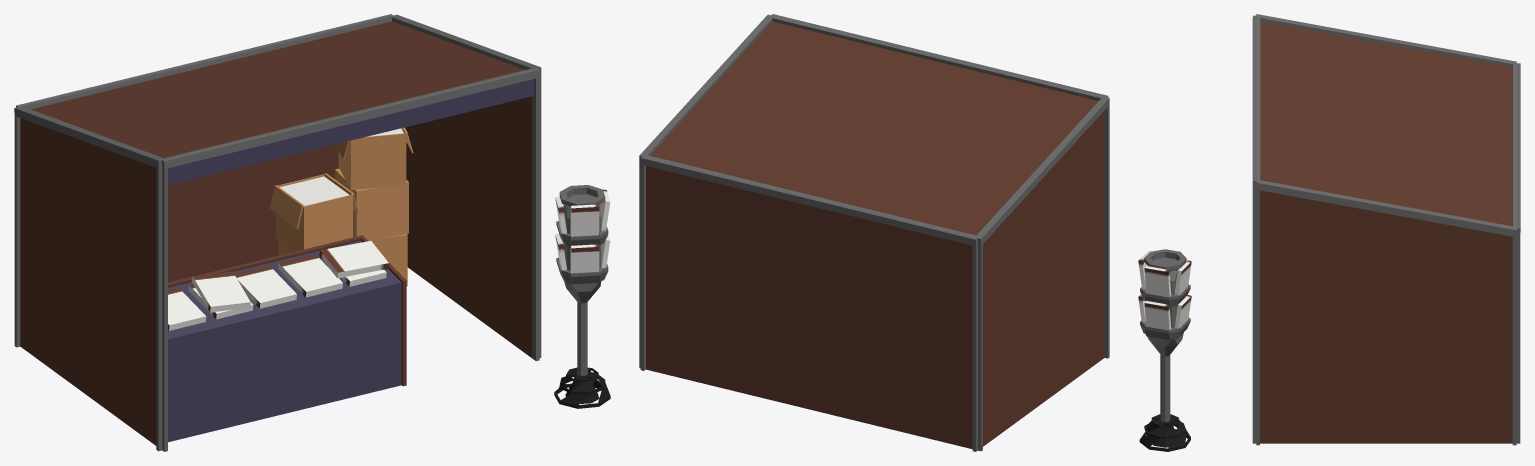
The model's file is Tori_Koju_Lehti.fbx.
The picture shows the model from 3 angles, left to right: view 1: azimuth 30°, elevation 25°; view 2: azimuth 150°, elevation 25°; view 3: azimuth 270°, elevation 25°; orthographic projection. The views are drawn at different scales.
Parts seen in each view (by area): view 1: Teltta, Pöytä, Pahvilaatikot, Lehdet, LehtiTeline; view 2: Teltta; view 3: Teltta, LehtiTeline, Lehdet.
Part boxes in pixels (x1=…): Teltta: x1=14, y1=14, x2=541, y2=451; Pöytä: x1=168, y1=235, x2=406, y2=442; Pahvilaatikot: x1=269, y1=127, x2=413, y2=286; Lehdet: x1=168, y1=189, x2=610, y2=330; LehtiTeline: x1=554, y1=185, x2=610, y2=408; Teltta: x1=639, y1=14, x2=1109, y2=451; Teltta: x1=1252, y1=14, x2=1520, y2=445; LehtiTeline: x1=1139, y1=249, x2=1190, y2=451; Lehdet: x1=1138, y1=251, x2=1191, y2=329.
Bounding box in the file's own units: 325 × 226 × 298.
